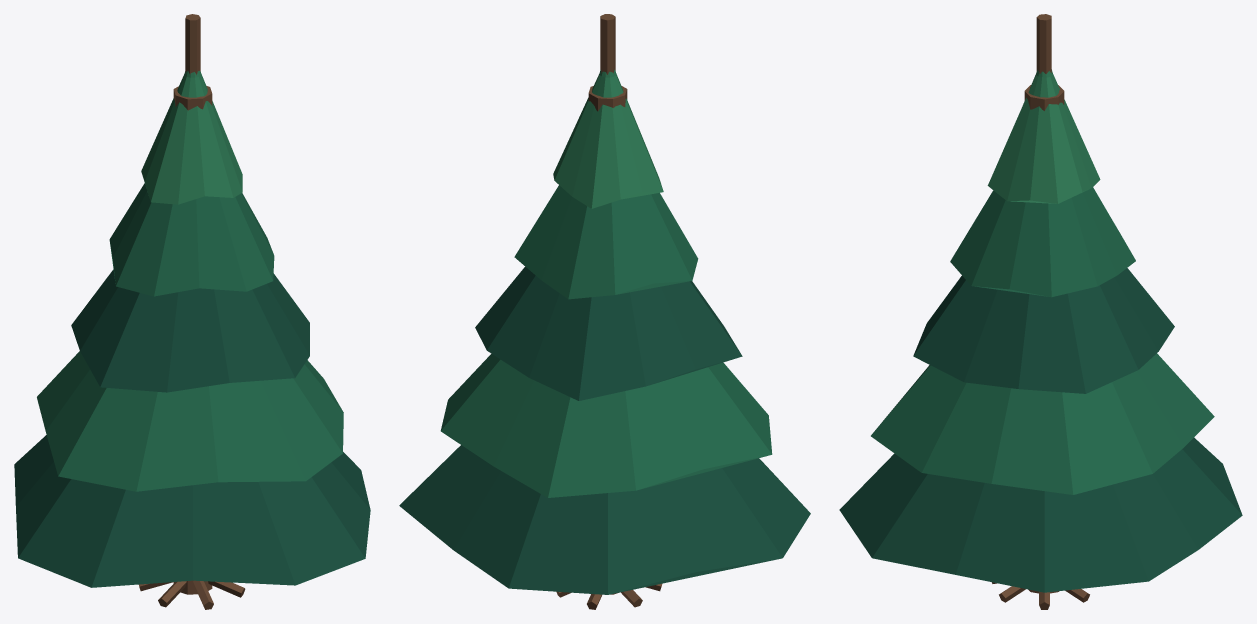
File: pine_tree.glb
3 views of the same model, side by side, from view 1: azimuth 30°, elevation 25°; view 2: azimuth 150°, elevation 25°; view 3: azimuth 270°, elevation 25° (orthographic).
Parts seen in each view (by area): view 1: canopy_lower, canopy_middle_lower, canopy_middle_upper, canopy_upper, canopy_crown, trunk, trunk_top, trunk_main; view 2: canopy_lower, canopy_middle_lower, canopy_middle_upper, canopy_upper, canopy_crown, trunk_top; view 3: canopy_lower, canopy_middle_lower, canopy_middle_upper, canopy_upper, canopy_crown, trunk_top, trunk, trunk_main.
Boxes of the visible parts, box(x1,y1,x2,y2) form: canopy_lower: box(14, 435, 370, 587); canopy_middle_lower: box(37, 351, 343, 491); canopy_middle_upper: box(71, 269, 309, 392); canopy_upper: box(109, 183, 274, 296); canopy_crown: box(141, 71, 242, 204); trunk: box(139, 580, 245, 609); trunk_top: box(185, 14, 200, 74); trunk_main: box(173, 86, 212, 594); canopy_lower: box(399, 445, 810, 594); canopy_middle_lower: box(440, 354, 772, 497); canopy_middle_upper: box(475, 266, 742, 400); canopy_upper: box(514, 185, 698, 299); canopy_crown: box(553, 69, 663, 208); trunk_top: box(600, 14, 615, 74); canopy_lower: box(839, 437, 1242, 592); canopy_middle_lower: box(871, 353, 1214, 494); canopy_middle_upper: box(913, 268, 1174, 393); canopy_upper: box(950, 187, 1135, 297); canopy_crown: box(987, 69, 1100, 203); trunk_top: box(1036, 14, 1051, 73); trunk: box(992, 582, 1089, 609); trunk_main: box(1024, 85, 1064, 593).
Bounding box in the file's own units: 2.28 × 3.63 × 2.33.
